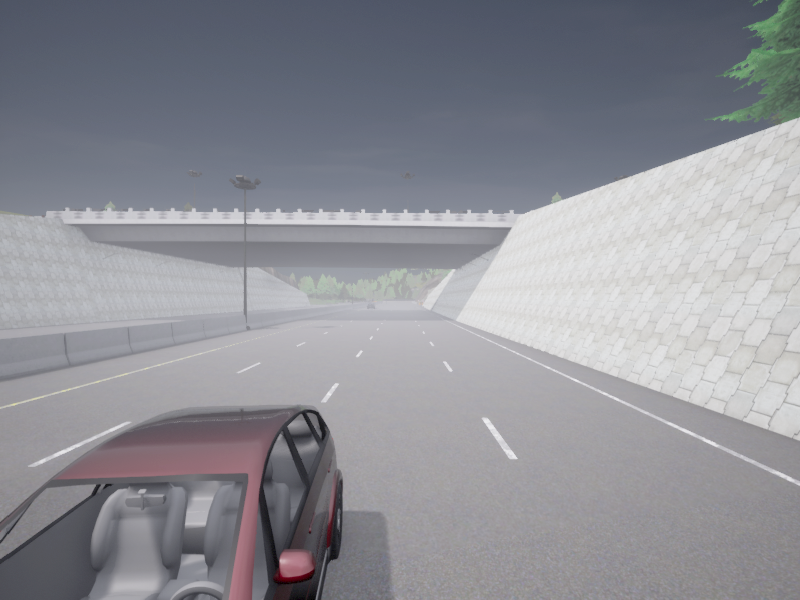vehicle: (0, 405, 342, 599), (367, 303, 375, 308)
